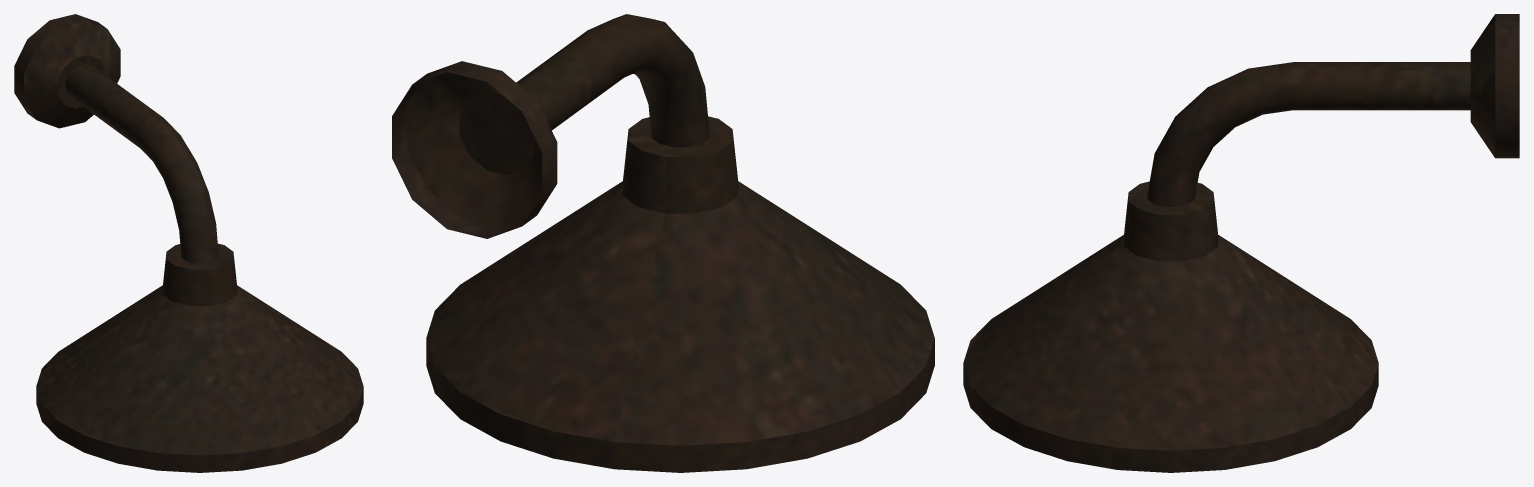
File: lamp_mx_2_on.dae
3 views of the same model, side by side, from view 1: azimuth 30°, elevation 25°; view 2: azimuth 150°, elevation 25°; view 3: azimuth 270°, elevation 25° (orthographic). The views are drawn at different scales.
Visible parts, largest first — view 1: lamp_mx_2_on; view 2: lamp_mx_2_on; view 3: lamp_mx_2_on.
Boxes of the visible parts, x1,y1,x2,y2 form: lamp_mx_2_on: (14, 14, 363, 472); lamp_mx_2_on: (392, 14, 934, 472); lamp_mx_2_on: (963, 14, 1519, 472).
Bounding box in the file's own units: 0.357 × 0.478 × 0.3682.
Materials: 2 (2 with a texture image).
